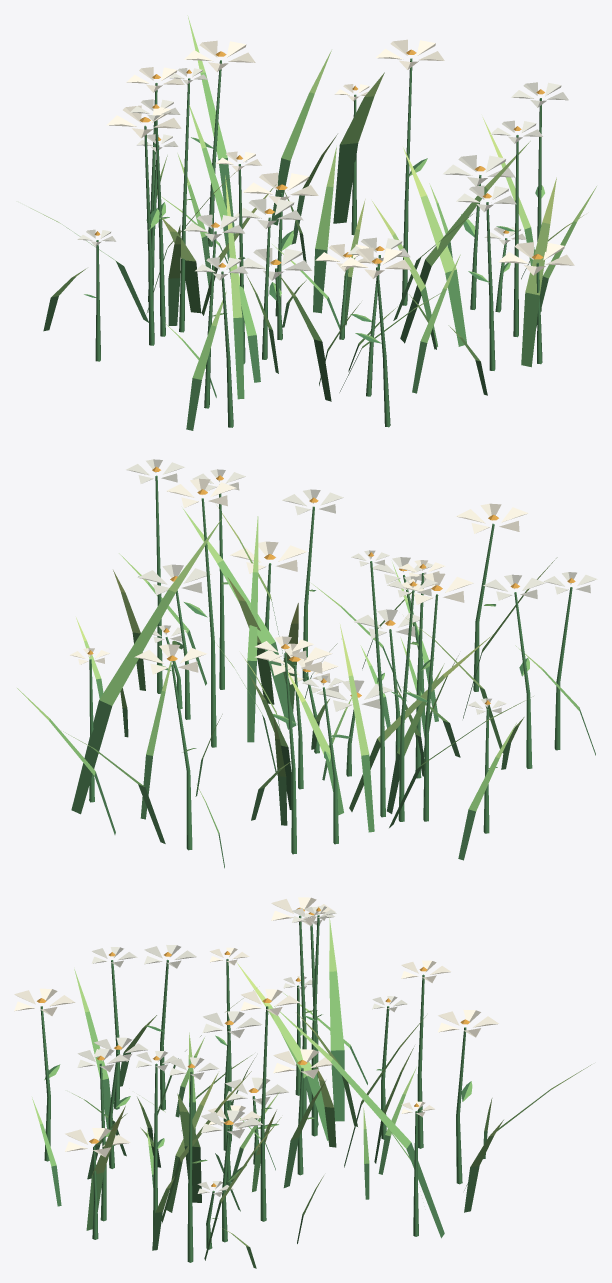
File: Flower_02_White.glb
3 views of the same model, one above another, from view 1: azimuth 30°, elevation 25°; view 2: azimuth 150°, elevation 25°; view 3: azimuth 270°, elevation 25° (orthographic). The views are drawn at different scales.
Parts seen in each view (by area): view 1: Flower_02_White; view 2: Flower_02_White; view 3: Flower_02_White.
Boxes of the visible parts, left/top/right/bottom form: Flower_02_White: left=29, top=15, right=596, bottom=430; Flower_02_White: left=17, top=459, right=597, bottom=868; Flower_02_White: left=14, top=897, right=591, bottom=1268.
Size of the model in its own units: 1.09 by 0.523 by 1.19.
